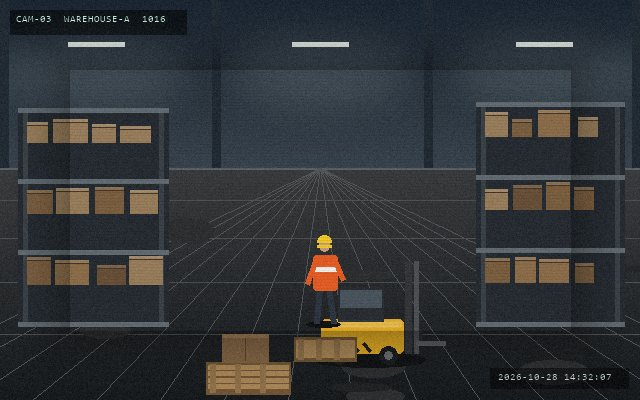forklift: (317, 259, 447, 367)
pallet: (204, 360, 292, 396), (292, 335, 358, 363)
person: (305, 233, 345, 326)
shelf: (476, 102, 624, 322), (18, 108, 168, 322)
